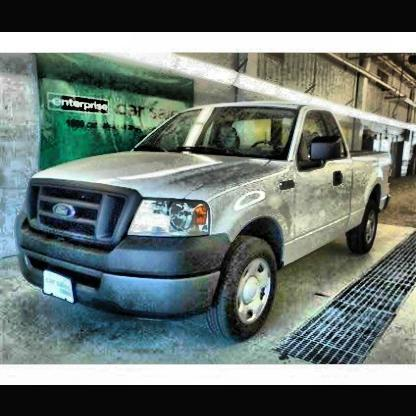Ford F-150 Regular Cab 2007: (20, 112, 393, 344)
